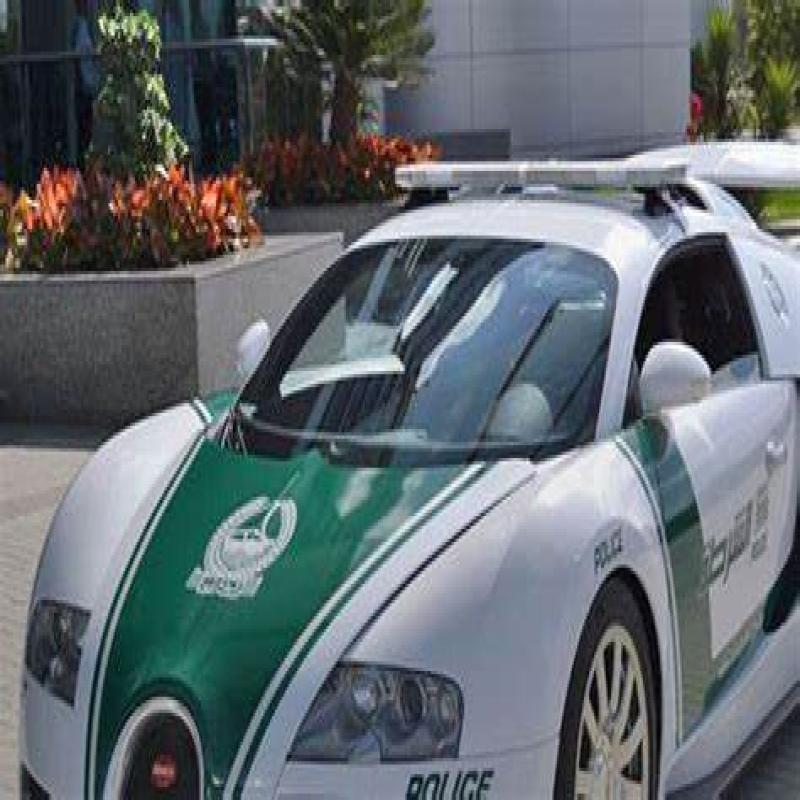AmbulanceSiren: (384, 120, 701, 237)
